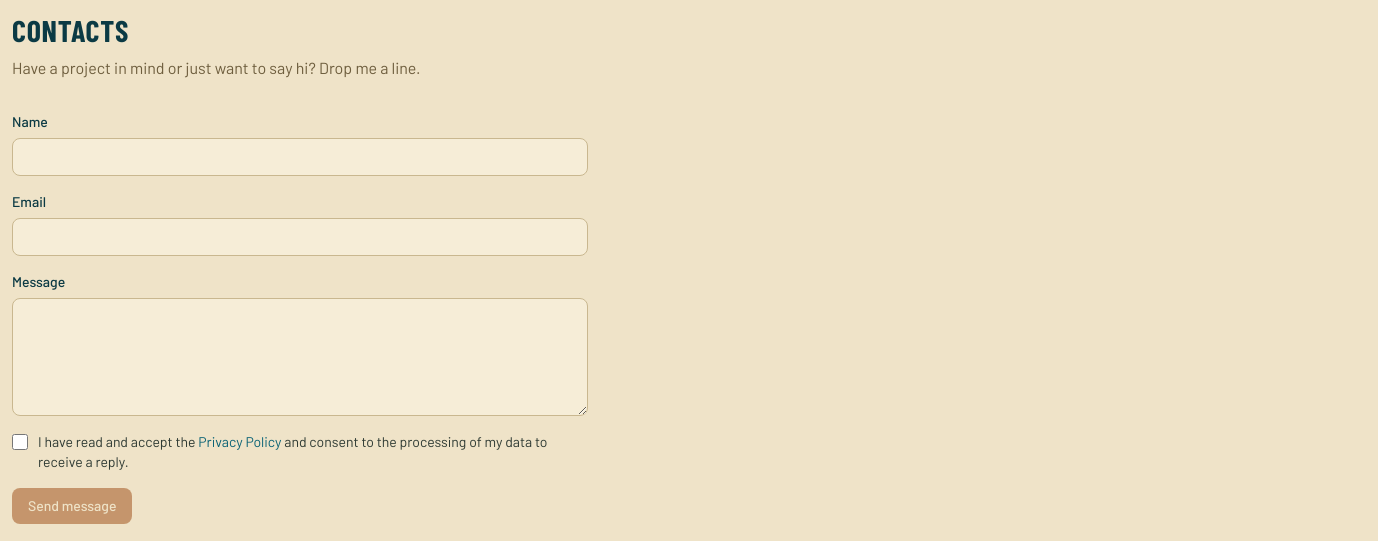
Contacts › shows a success message after a successful submit
In the field labelled "Name": (300, 157) x1=12 y1=138 x2=588 y2=176, type "Alice"
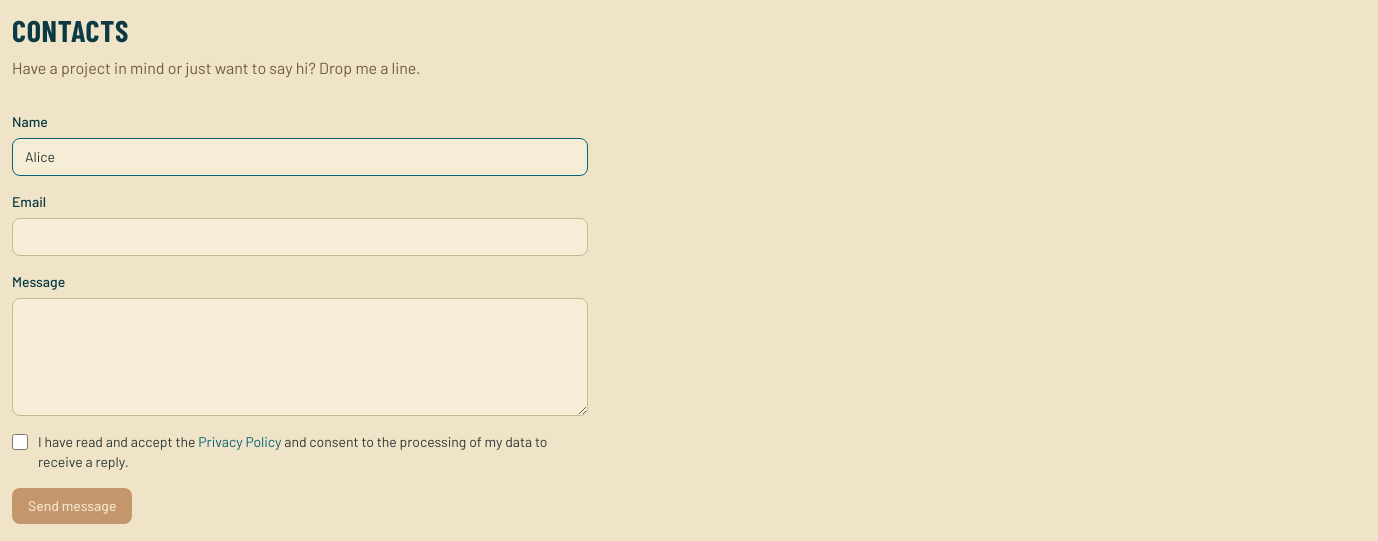
In the field labelled "Email": (300, 237) x1=12 y1=218 x2=588 y2=256, type "alice@example.com"
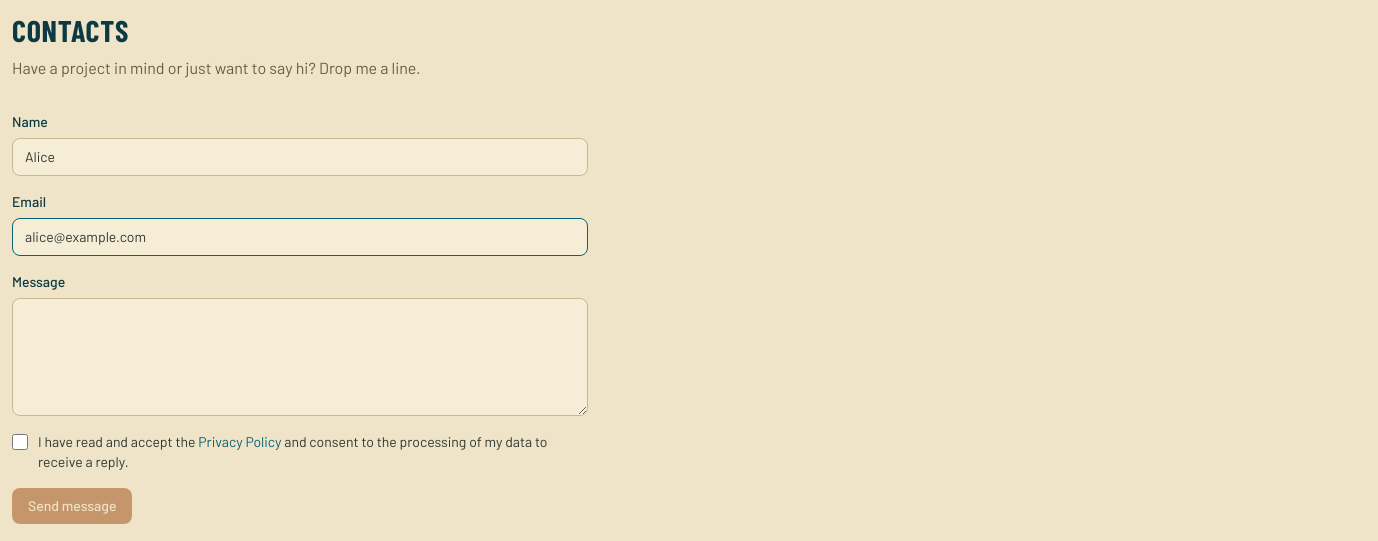
In the text box labelled "Message": (300, 357) x1=12 y1=298 x2=588 y2=416, type "Hello Marco!"
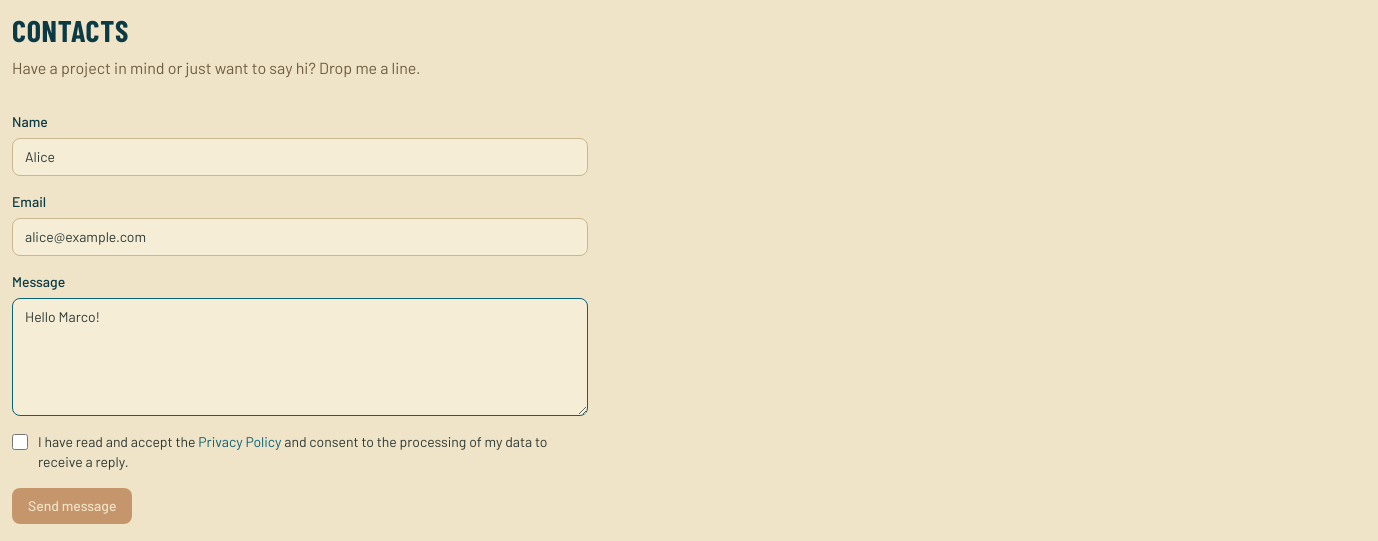
Click the checkbox: click(20, 442) x1=12 y1=434 x2=28 y2=450
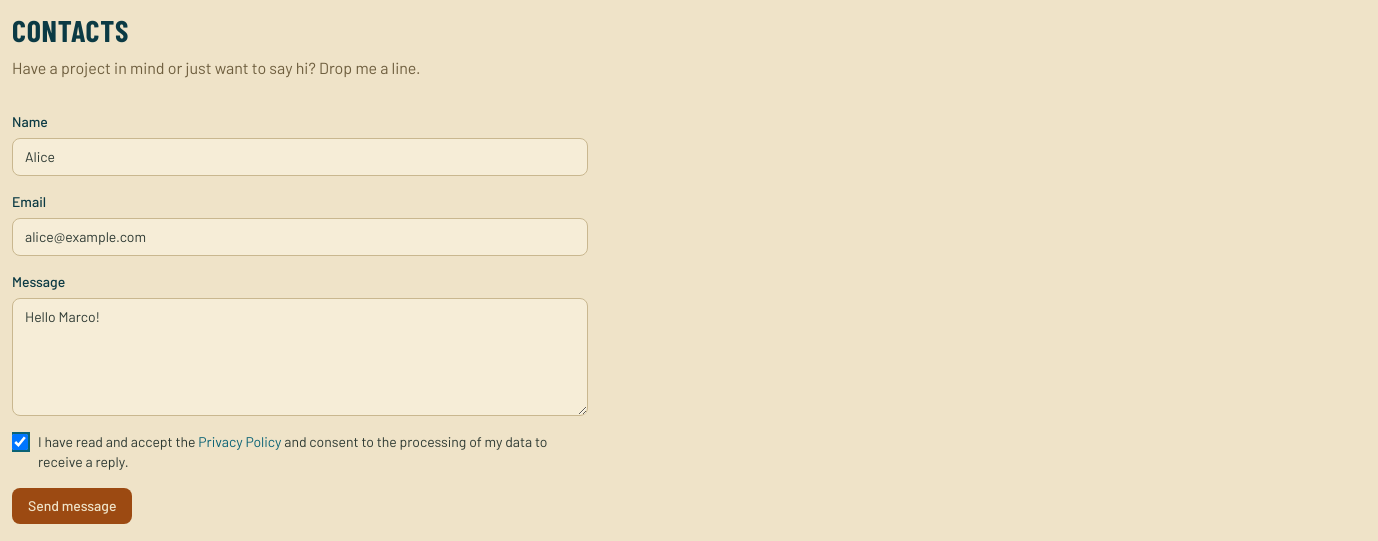
Click the button "Send message": click(72, 506) x1=12 y1=488 x2=132 y2=524
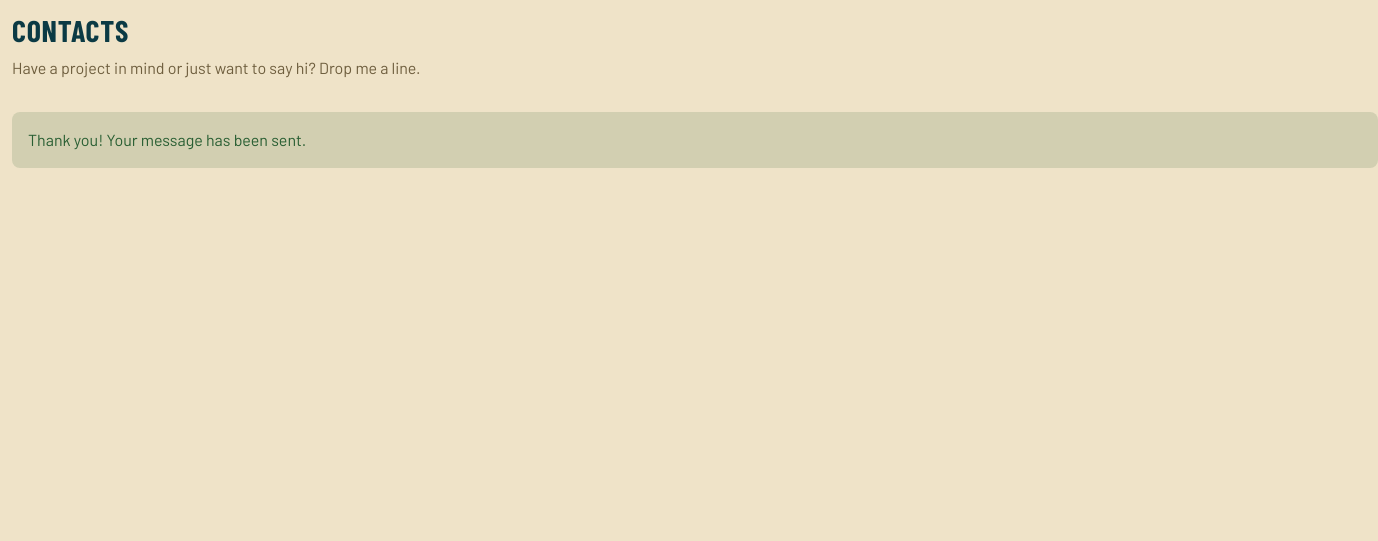
Check: the message reads "Thank you! Your message has been sent.", box x1=28 y1=130 x2=306 y2=149
